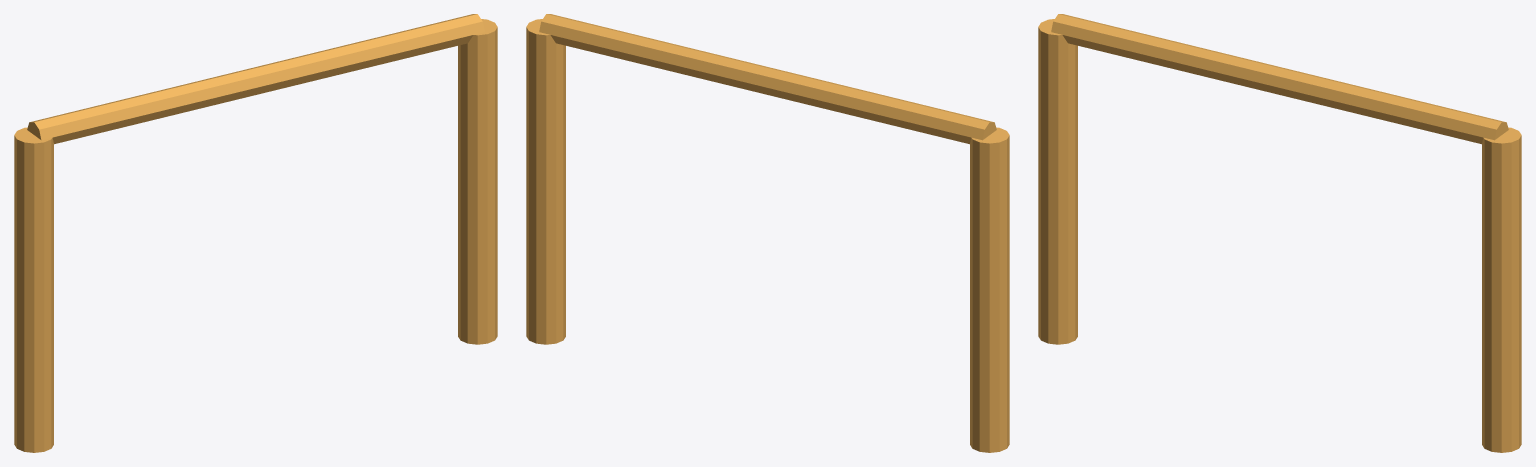
The model's file is passing-gate-7e95a48c.glb.
3 renders of one model, left to right at view 1: azimuth 30°, elevation 25°; view 2: azimuth 150°, elevation 25°; view 3: azimuth 330°, elevation 25°, orthographic.
Visible parts, largest first — view 1: passing-gate; view 2: passing-gate; view 3: passing-gate.
Boxes of the visible parts, bbox=[...] form: passing-gate: bbox=[14, 14, 497, 452]; passing-gate: bbox=[526, 14, 1009, 452]; passing-gate: bbox=[1038, 14, 1521, 452].
Size of the model in its own units: 0.97 by 0.625 by 0.07.
